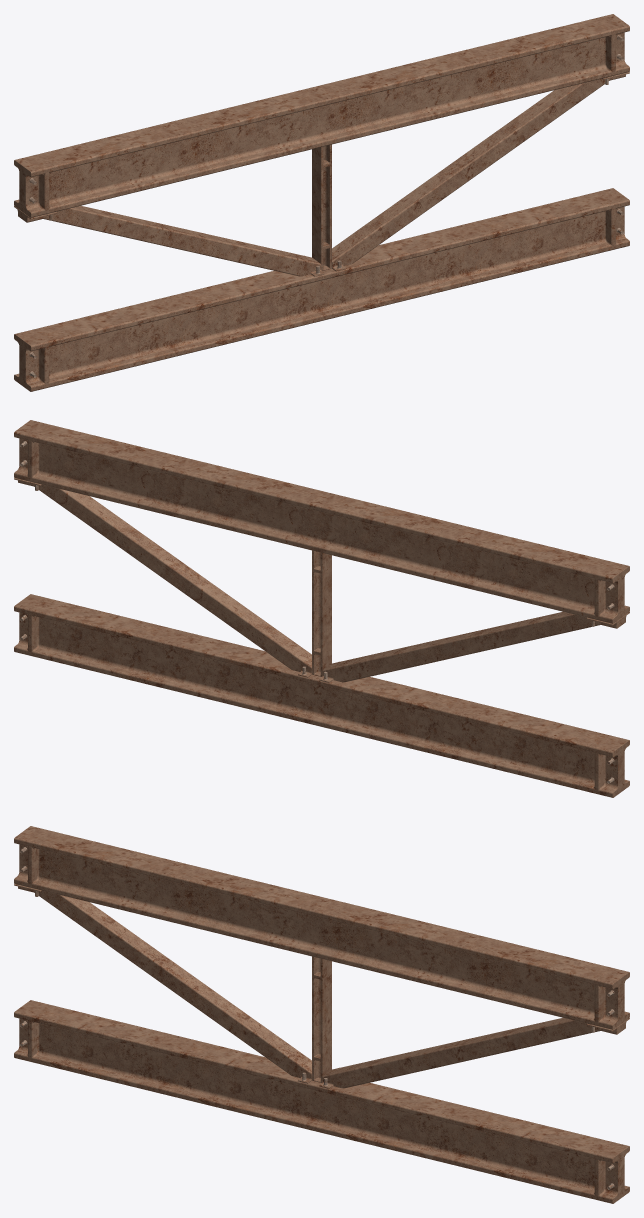
File: beam_rusty.glb
The picture shows the model from 3 angles, top to bottom: view 1: azimuth 30°, elevation 25°; view 2: azimuth 150°, elevation 25°; view 3: azimuth 330°, elevation 25°; orthographic projection.
Parts seen in each view (by area): view 1: beam_rusty; view 2: beam_rusty; view 3: beam_rusty.
Part boxes in pixels (x1=…): beam_rusty: x1=14, y1=14, x2=629, y2=391; beam_rusty: x1=14, y1=420, x2=629, y2=797; beam_rusty: x1=14, y1=826, x2=629, y2=1203.
Bounding box in the file's own units: 5.4 × 1.9 × 0.27.
Materials: 2 (2 with a texture image).
